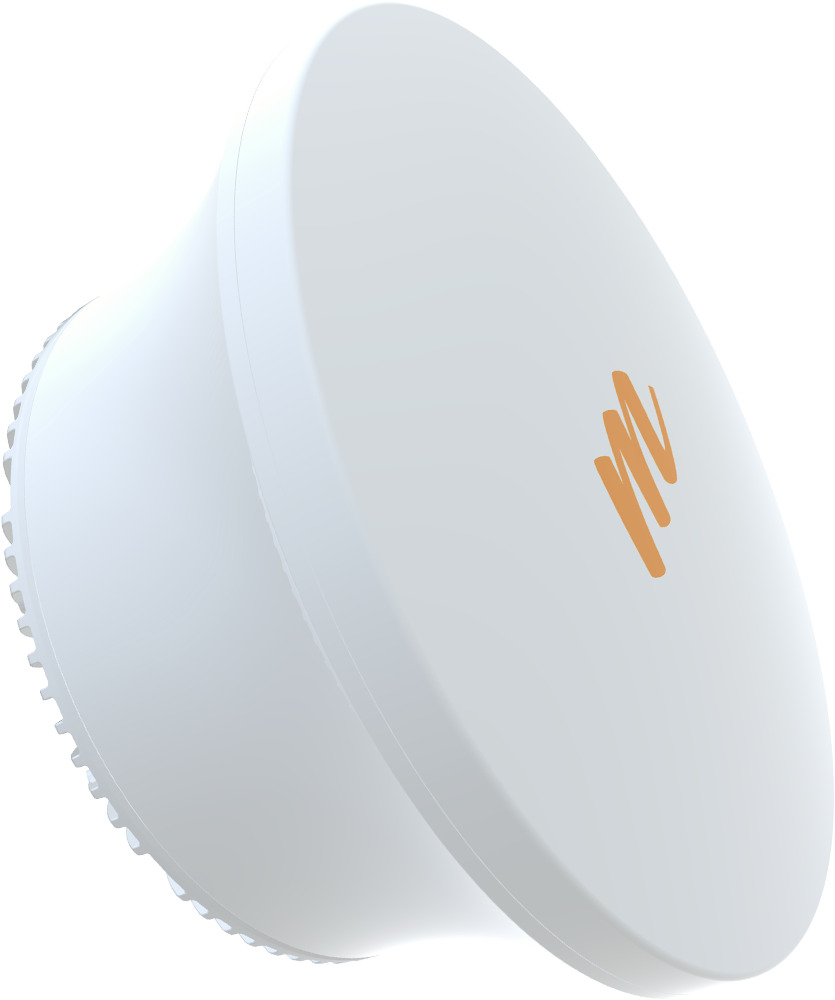ba: (36, 9, 835, 995)
